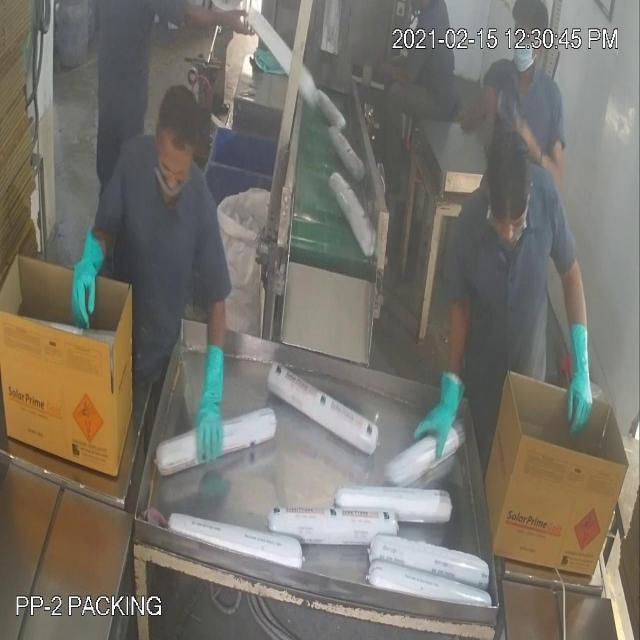Gloves: (43, 28, 578, 414)
